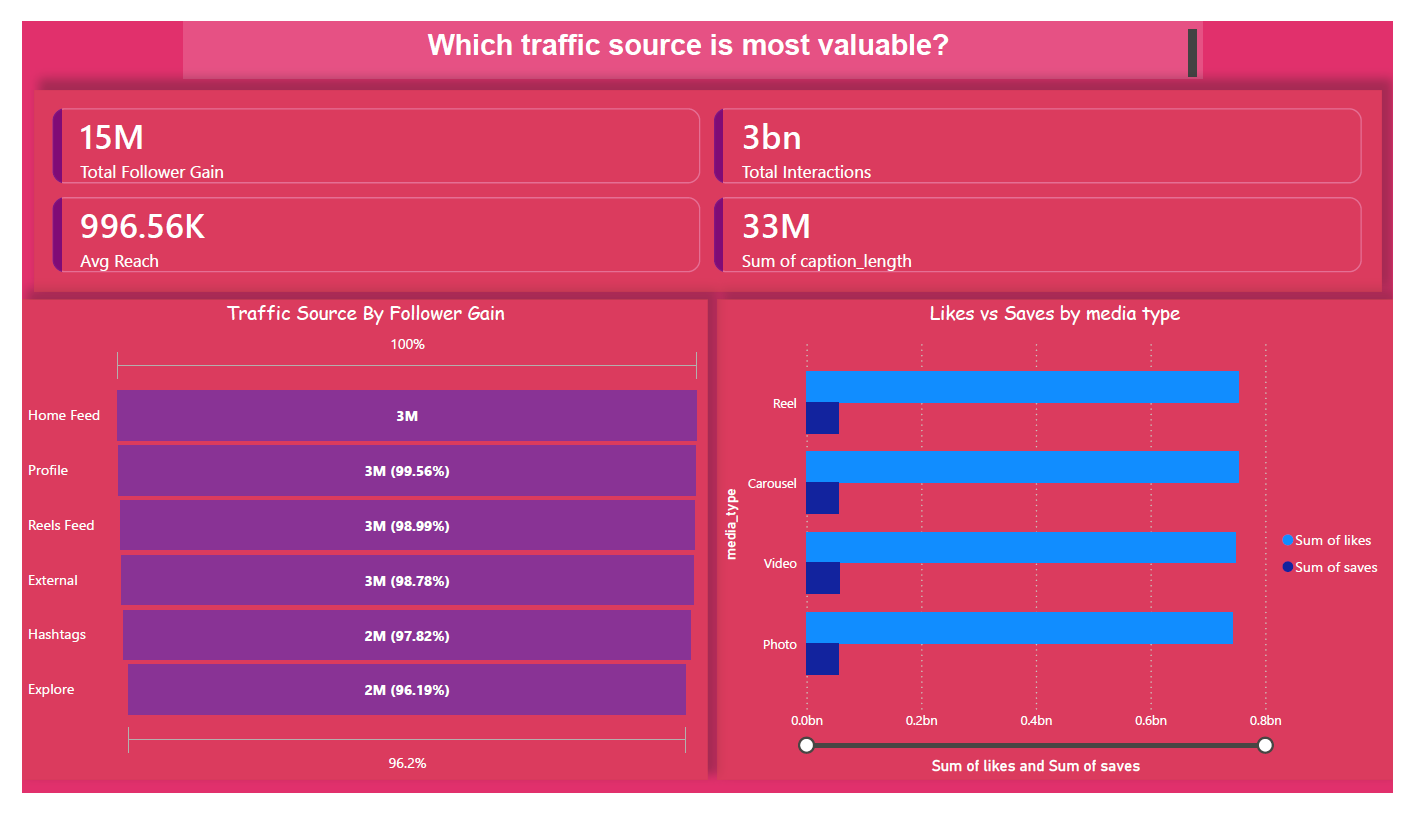

What the dashboard file says about the page in this screenshot:
{"tool":"powerbi","page":{"name":"Problem 3","canvas":[1280,720],"ordinal":3},"visuals":[{"type":"textbox","box":[149.7,0,952.2,52.8],"z":0},{"type":"funnel","title":"Traffic Source By Follower Gain","fields":{"Category":["Instagram_Analytics.traffic_source"],"Y":["Sum(Instagram_Analytics.followers_gained)"]},"box":[0,260.1,640.5,447.9],"z":1000},{"type":"clusteredBarChart","title":"Likes vs Saves by media type","fields":{"Y":["Sum(Instagram_Analytics.likes)","Sum(Instagram_Analytics.saves)"],"Category":["Instagram_Analytics.media_type"]},"box":[649.1,260.1,630.7,447.9],"z":2000},{"type":"cardVisual","fields":{"Data":["Instagram_Analytics.Total Follower Gain","Instagram_Analytics.Total Interactions","Instagram_Analytics.Avg Reach","Sum(Instagram_Analytics.caption_length)"]},"box":[11,63.8,1258.9,187.7],"z":3000}]}

Visuals, with their boxes in screenshot pixels (x1, y1, x2, y2), scaled from the page's 1280x720 canvas onto the 1414x813 screenshot:
textbox: select_region(165, 0, 1217, 60)
"Traffic Source By Follower Gain" funnel: select_region(0, 294, 708, 799)
"Likes vs Saves by media type" clusteredBarChart: select_region(717, 294, 1413, 799)
cardVisual - Instagram_Analytics.Total Follower Gain x Instagram_Analytics.Total Interactions: select_region(12, 72, 1403, 284)
